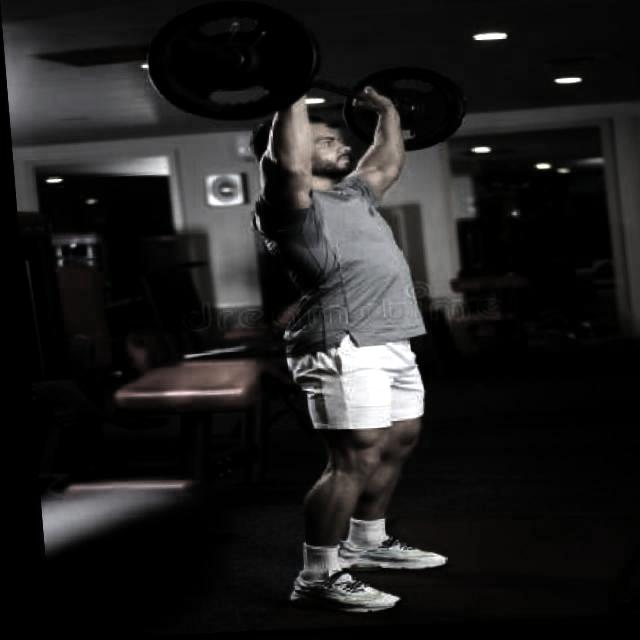barbell: (136, 1, 327, 128)
